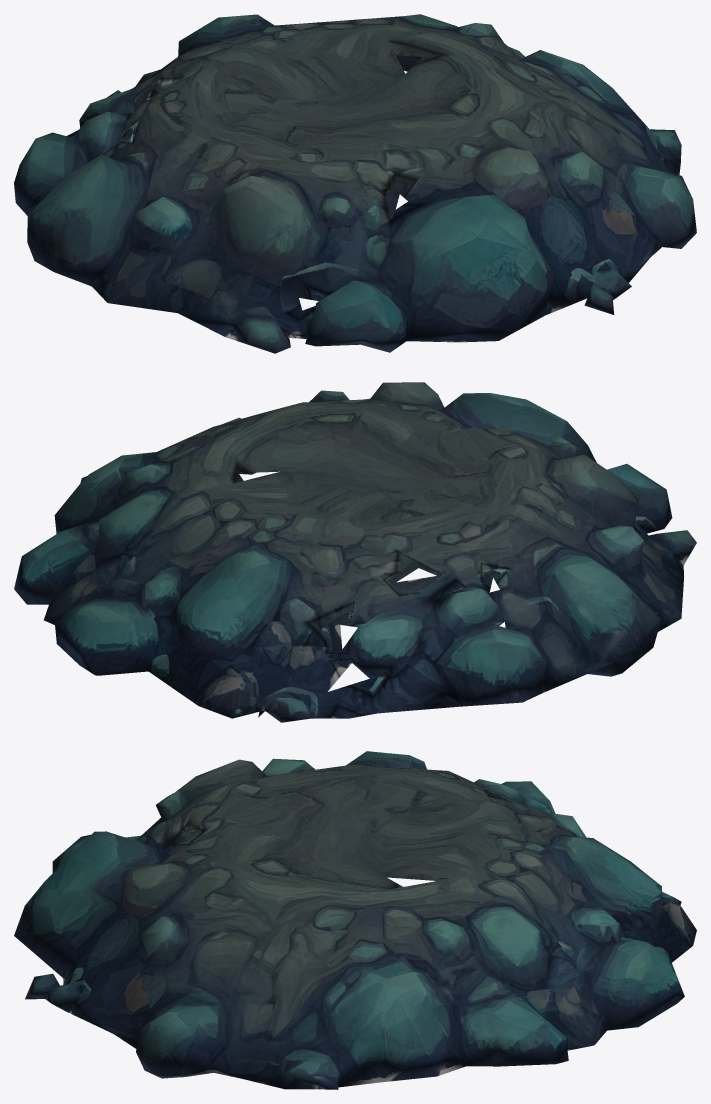
File: Teal_Rock_Mound_1240.fbx
The picture shows the model from 3 angles, top to bottom: view 1: azimuth 30°, elevation 25°; view 2: azimuth 150°, elevation 25°; view 3: azimuth 270°, elevation 25°; orthographic projection.
Parts seen in each view (by area): view 1: Teal_Rock_Mound_1240; view 2: Teal_Rock_Mound_1240; view 3: Teal_Rock_Mound_1240.
Boxes of the visible parts, <box> form: Teal_Rock_Mound_1240: <box>14,14,696,353</box>; Teal_Rock_Mound_1240: <box>14,382,696,722</box>; Teal_Rock_Mound_1240: <box>14,751,696,1089</box>.
Size of the model in its own units: 0.7973 by 0.172 by 0.8.
1 material, 1 textured.
